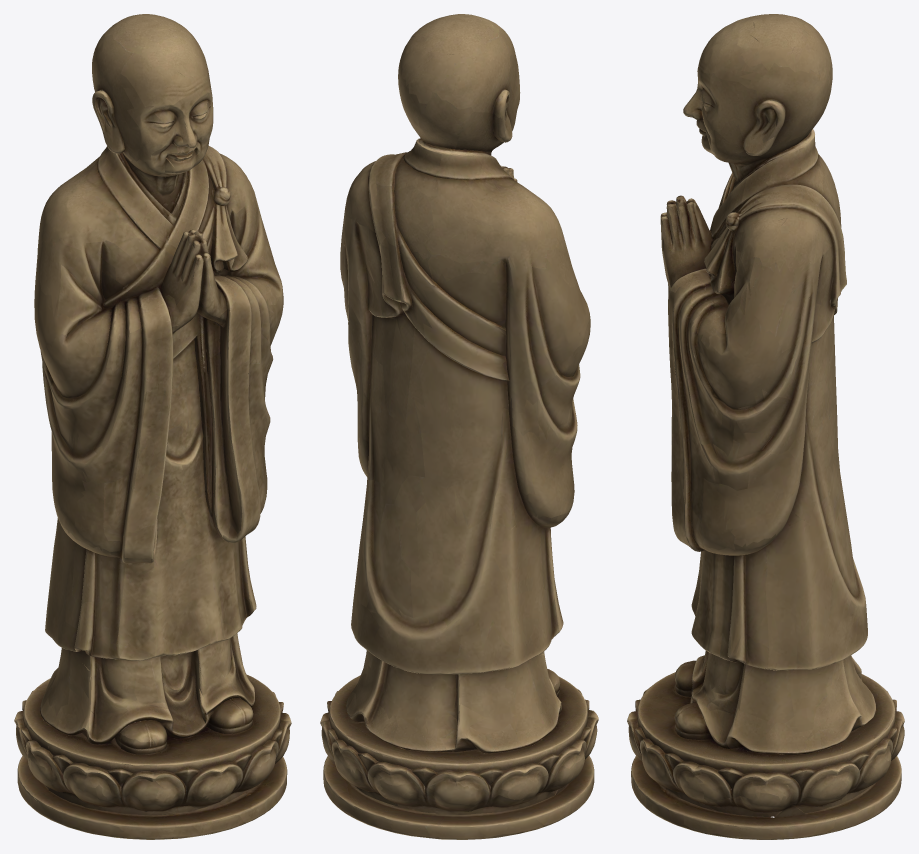
The model's file is statue-disciple.glb.
The picture shows the model from 3 angles, left to right: view 1: azimuth 30°, elevation 25°; view 2: azimuth 150°, elevation 25°; view 3: azimuth 270°, elevation 25°; orthographic projection.
Parts seen in each view (by area): view 1: output_unwrapped; view 2: output_unwrapped; view 3: output_unwrapped.
Boxes of the visible parts, <box> form: output_unwrapped: <box>14,14,291,839</box>; output_unwrapped: <box>320,14,598,839</box>; output_unwrapped: <box>627,14,904,839</box>.
Bounding box in the file's own units: 0.6302 × 1.9 × 0.6258.
1 material, 1 textured.
